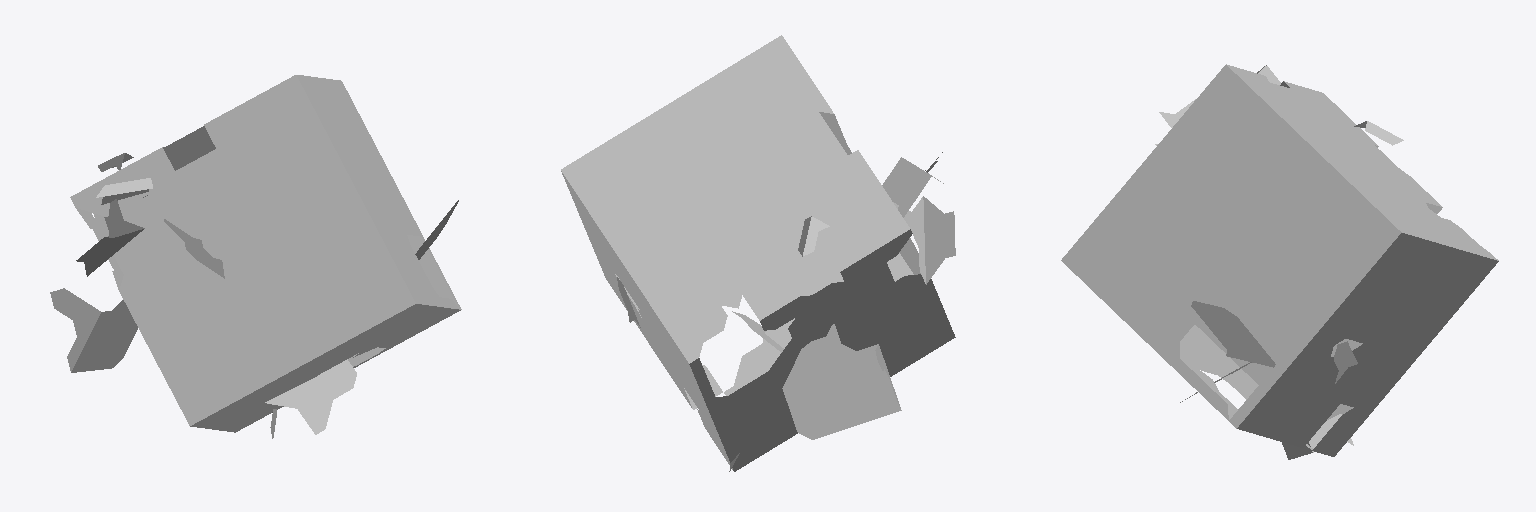
Rendered from explode_000014.obj.
3 views of the same model, side by side, from view 1: azimuth 30°, elevation 25°; view 2: azimuth 150°, elevation 25°; view 3: azimuth 270°, elevation 25° (orthographic).
Visible parts, largest first — view 1: Cube_Cube.001; view 2: Cube_Cube.001; view 3: Cube_Cube.001.
Boxes of the visible parts, x1,y1,x2,y2 form: Cube_Cube.001: [50, 75, 461, 438]; Cube_Cube.001: [561, 35, 955, 471]; Cube_Cube.001: [1061, 64, 1498, 459].
Bounding box in the file's own units: 3.27 × 3.36 × 3.37.